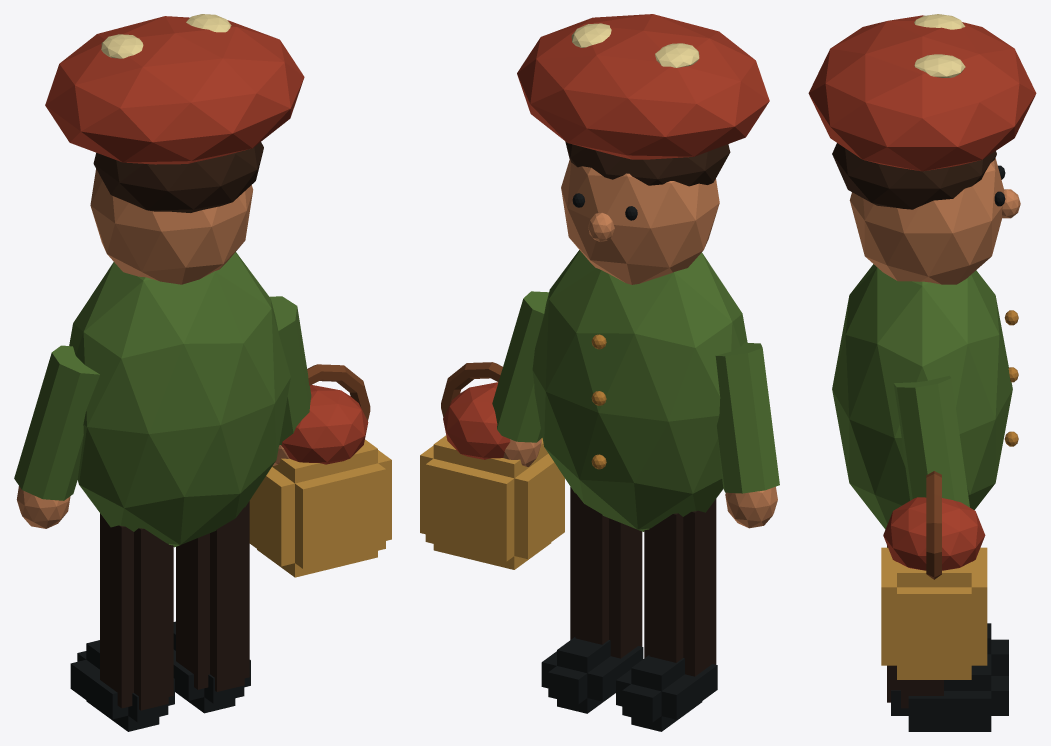
The model's file is folk_1.glb.
3 views of the same model, side by side, from view 1: azimuth 30°, elevation 25°; view 2: azimuth 150°, elevation 25°; view 3: azimuth 270°, elevation 25° (orthographic). The views are drawn at different scales.
Visible parts, largest first — view 1: Neighbour.001Mesh; view 2: Neighbour.001Mesh; view 3: Neighbour.001Mesh.
Boxes of the visible parts, x1,y1,x2,y2 form: Neighbour.001Mesh: (14, 14, 391, 731); Neighbour.001Mesh: (420, 14, 779, 731); Neighbour.001Mesh: (808, 14, 1036, 731).
Size of the model in its own units: 1.01 by 1.88 by 0.58.
